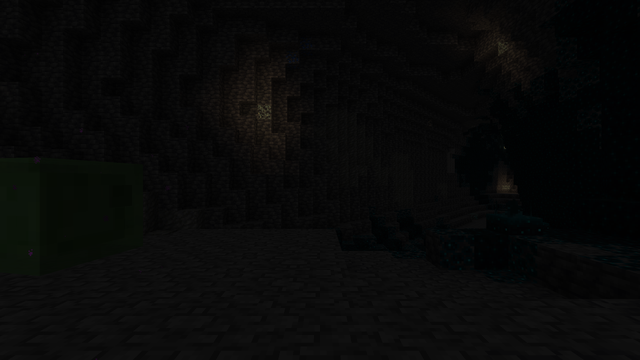slimes: (2, 153, 143, 272)
